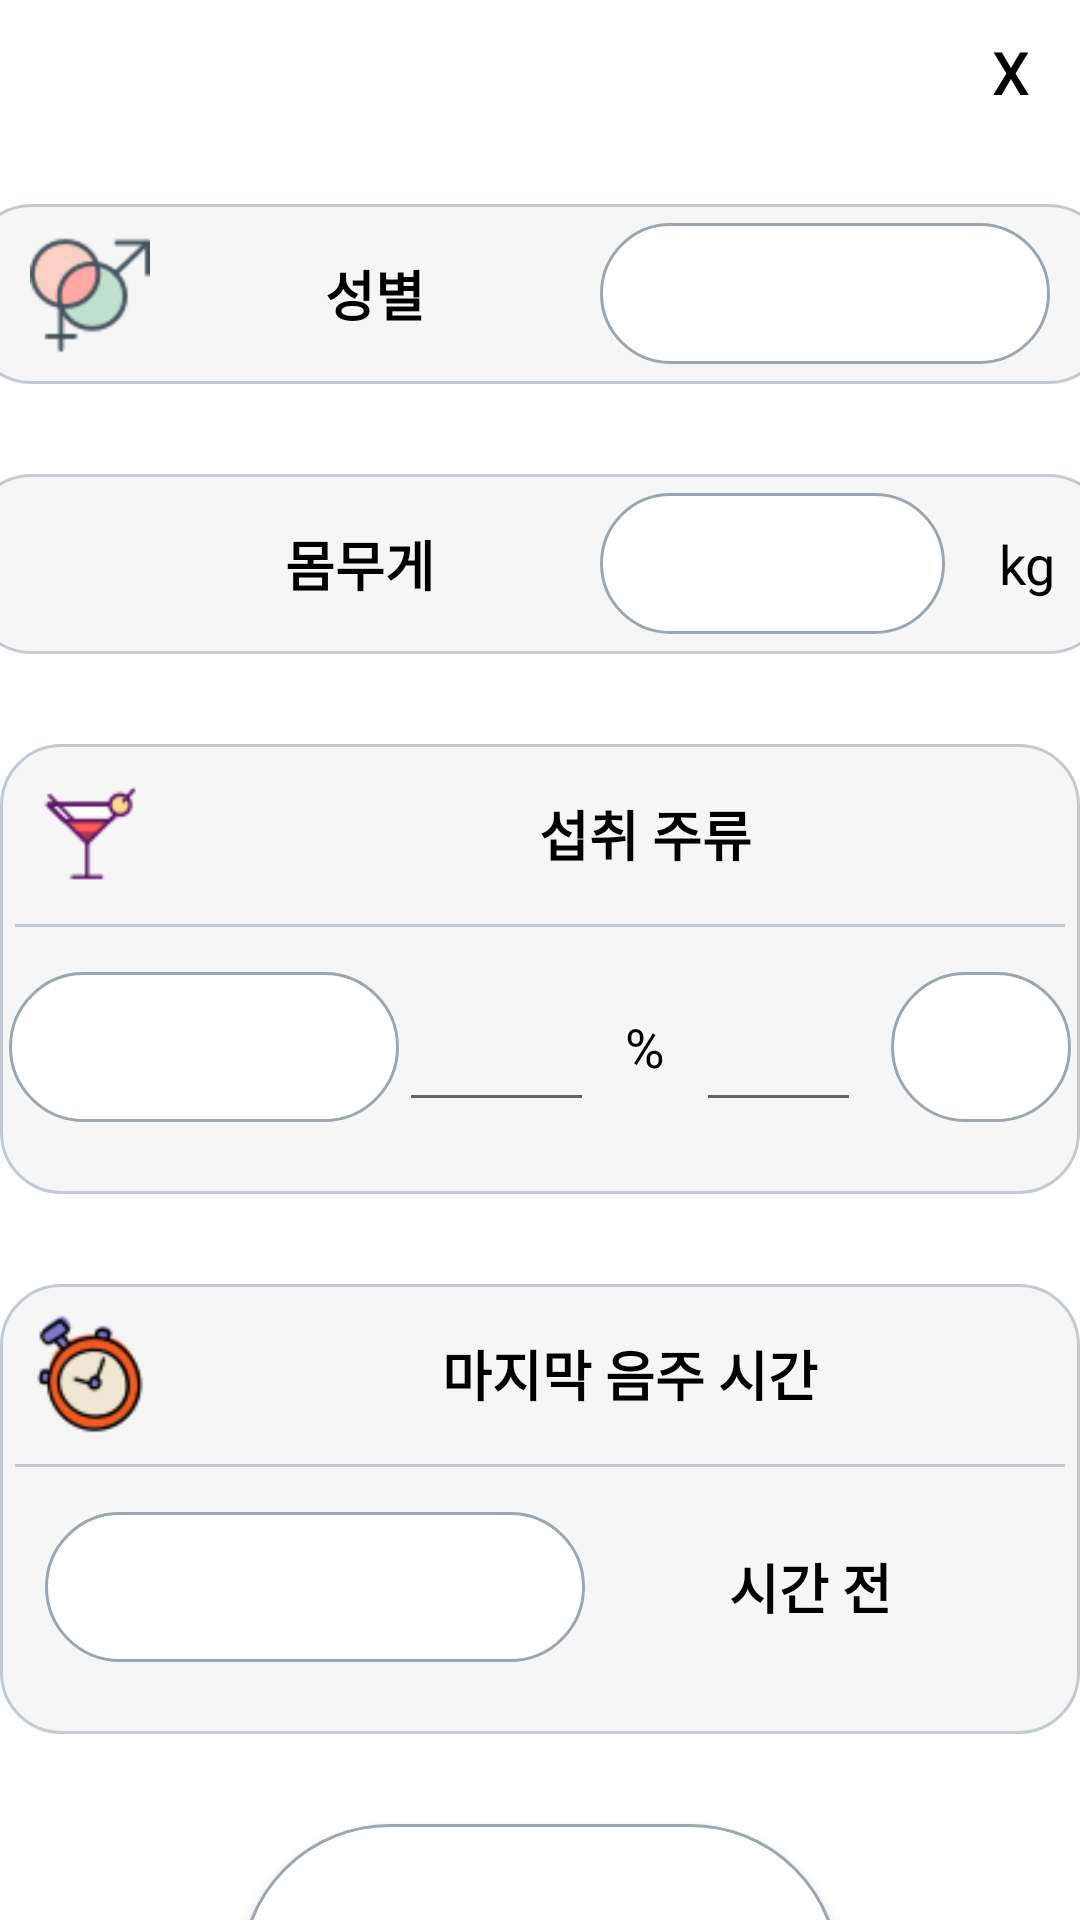

Point at icon controls on the screen. Image size 1080px x 1920px, points as point (x, y).
clock: point (90, 1374)
drink: point (90, 833)
gender: point (90, 295)
